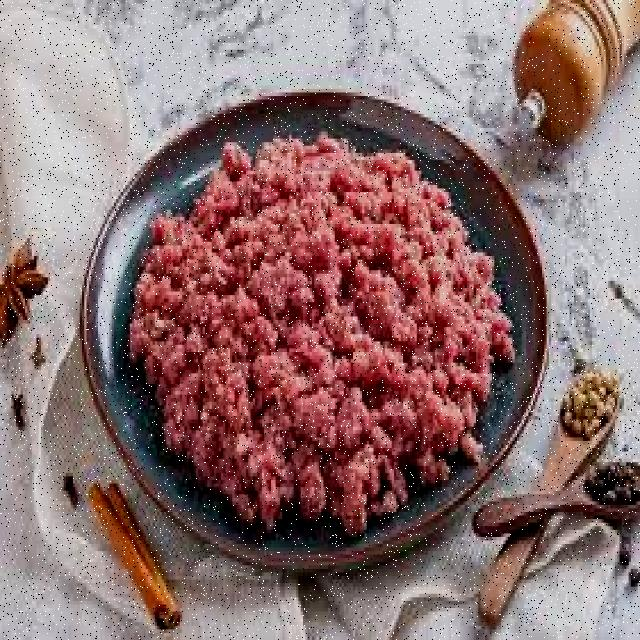Minced Meat: (288, 136, 512, 482), (132, 213, 334, 514)
